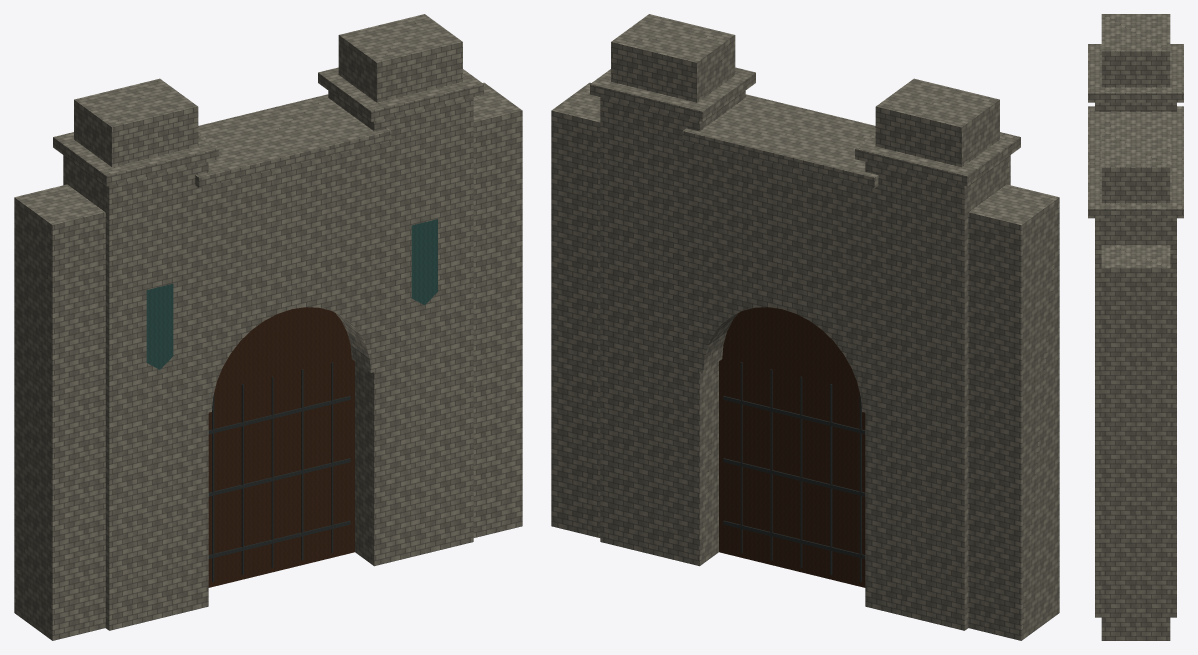
The model's file is SG_Gate_Fortress_LOD2.fbx.
The picture shows the model from 3 angles, left to right: view 1: azimuth 30°, elevation 25°; view 2: azimuth 150°, elevation 25°; view 3: azimuth 270°, elevation 25°; orthographic projection. The views are drawn at different scales.
Parts seen in each view (by area): view 1: SG_Gate_Fortress_Detail2; view 2: SG_Gate_Fortress_Detail2; view 3: SG_Gate_Fortress_Detail2.
Boxes of the visible parts, x1,y1,x2,y2 form: SG_Gate_Fortress_Detail2: (14, 14, 522, 640); SG_Gate_Fortress_Detail2: (551, 14, 1059, 640); SG_Gate_Fortress_Detail2: (1088, 14, 1183, 640).
Bounding box in the file's own units: 142 × 144 × 28.
